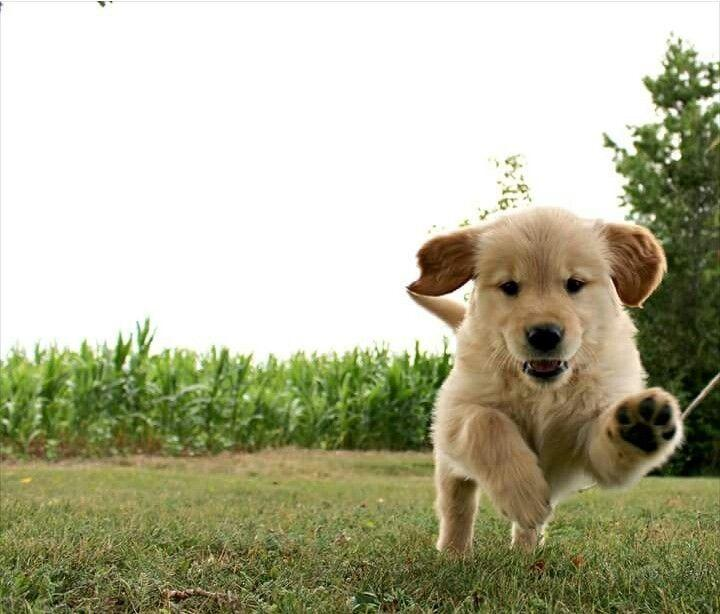puppy-dog: (403, 205, 685, 555)
